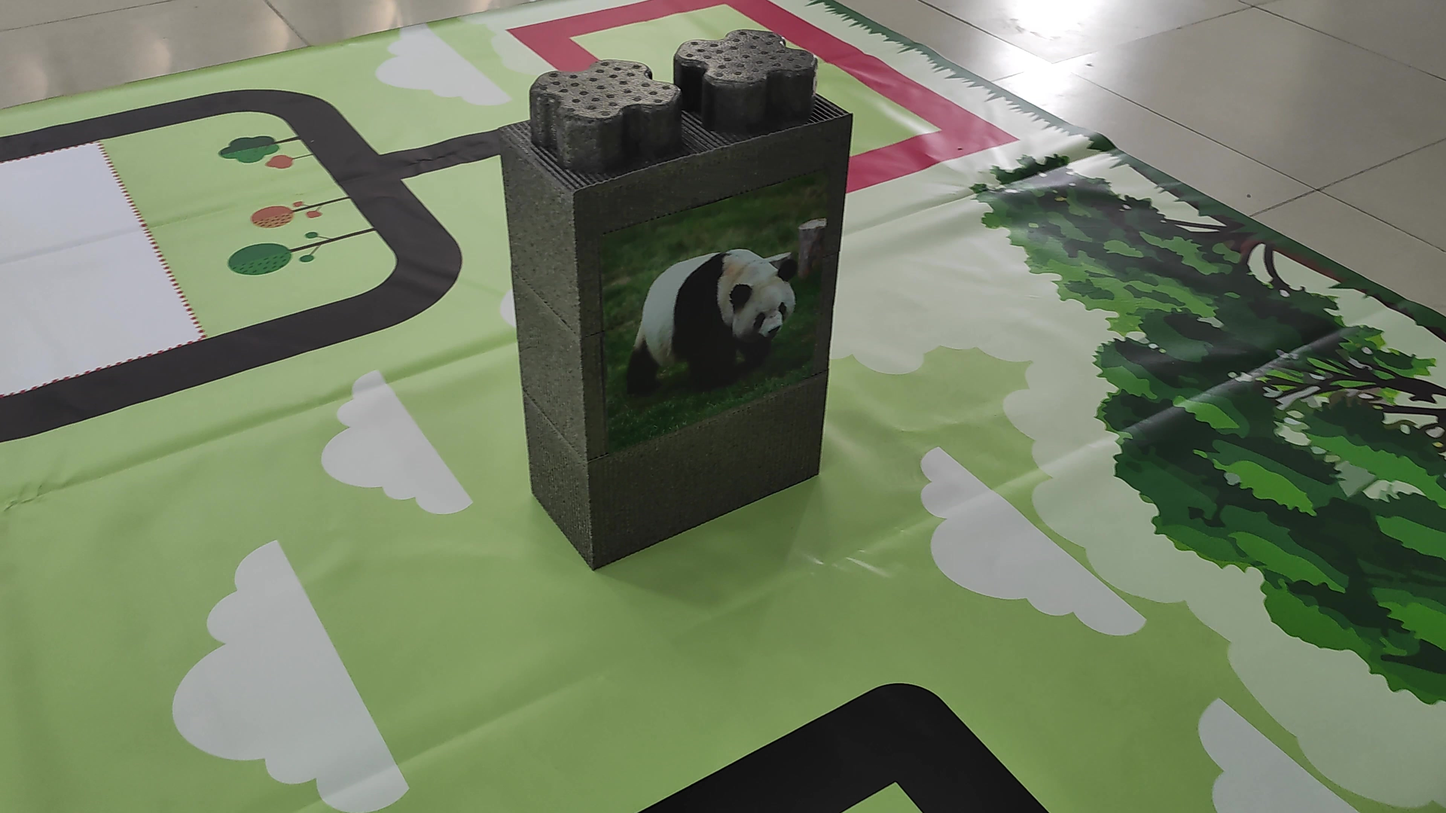panda: (615, 215, 824, 398)
